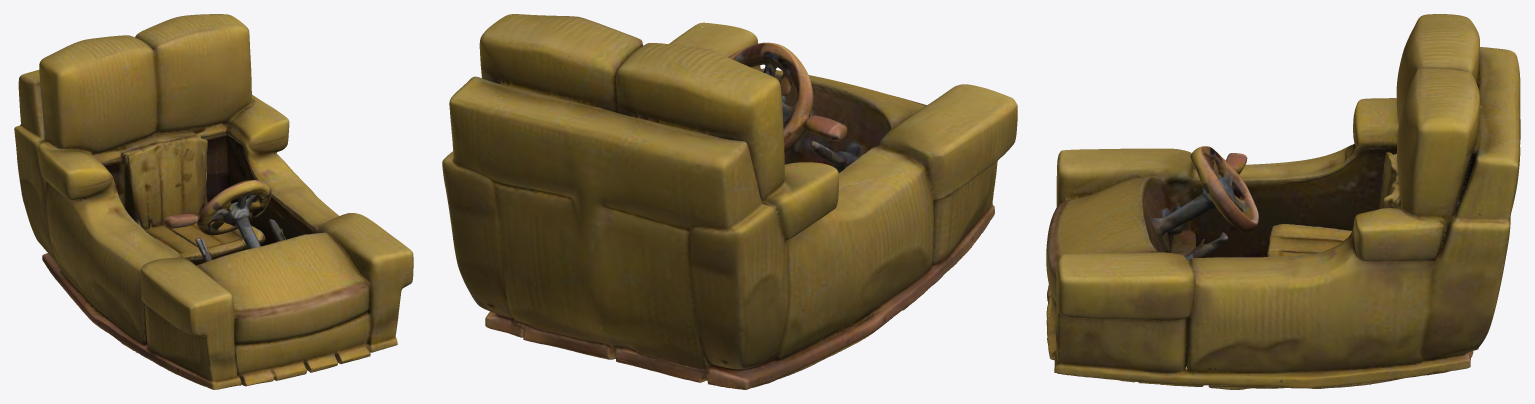
File: Meshy_AI_couch_car_0330162428_texture.glb
3 views of the same model, side by side, from view 1: azimuth 30°, elevation 25°; view 2: azimuth 150°, elevation 25°; view 3: azimuth 270°, elevation 25° (orthographic). The views are drawn at different scales.
Bounding box in the file's own units: 1.34 × 1.28 × 2.01.
1 material, 1 textured.
